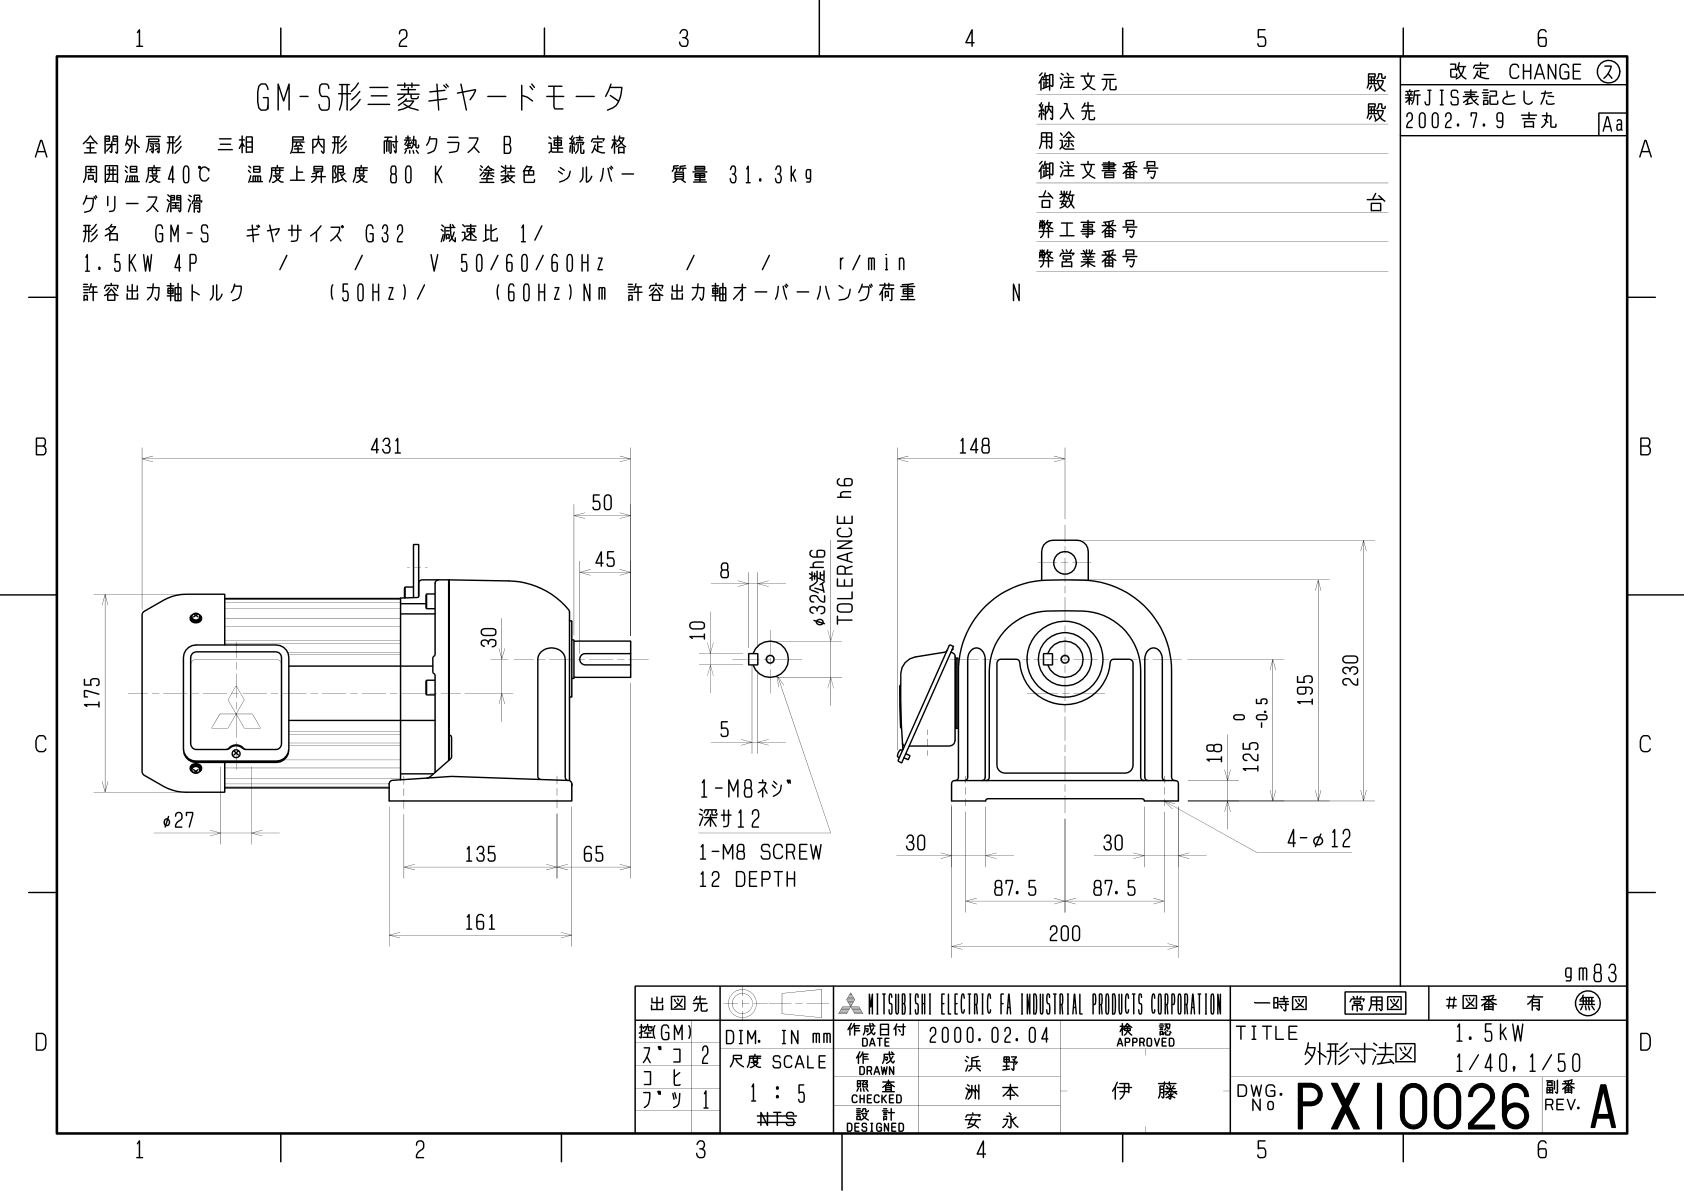GM_S_屋内＿三相_脚: (70, 424, 1386, 971)
